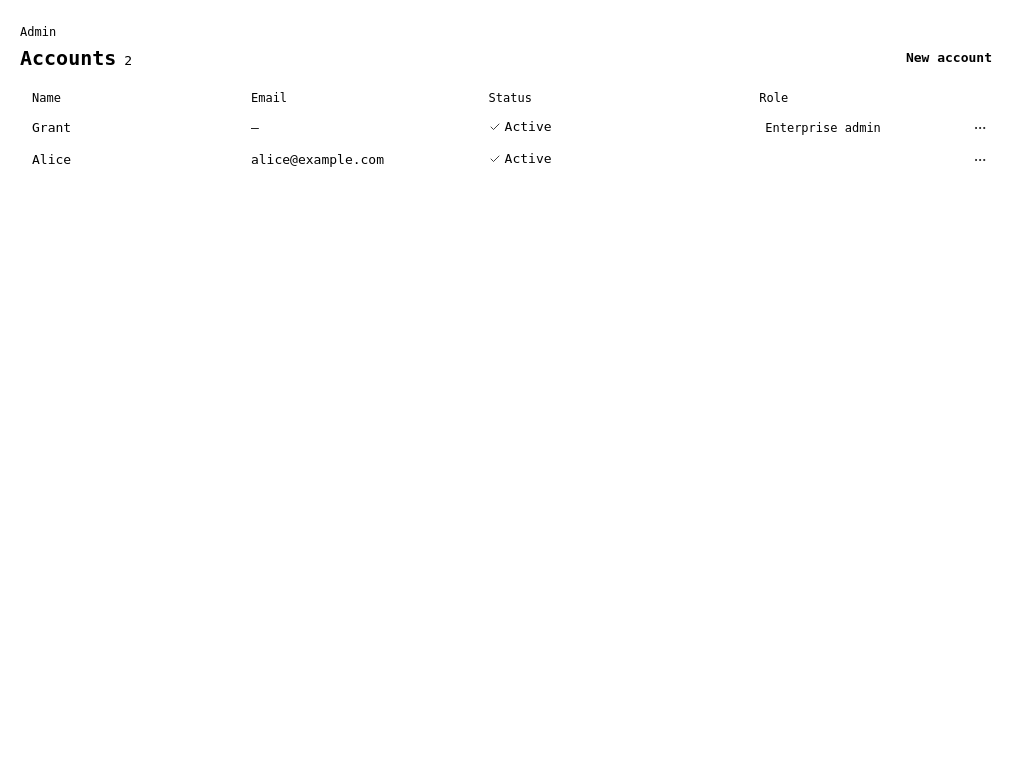
Test: /admin/accounts（ListPage） › 授予企业管理员要先确认，确认后才 PATCH（en）
Click the button named "Row actions" in the row of "alice@example.com". click: [980, 160]
box: [968,148,992,172]
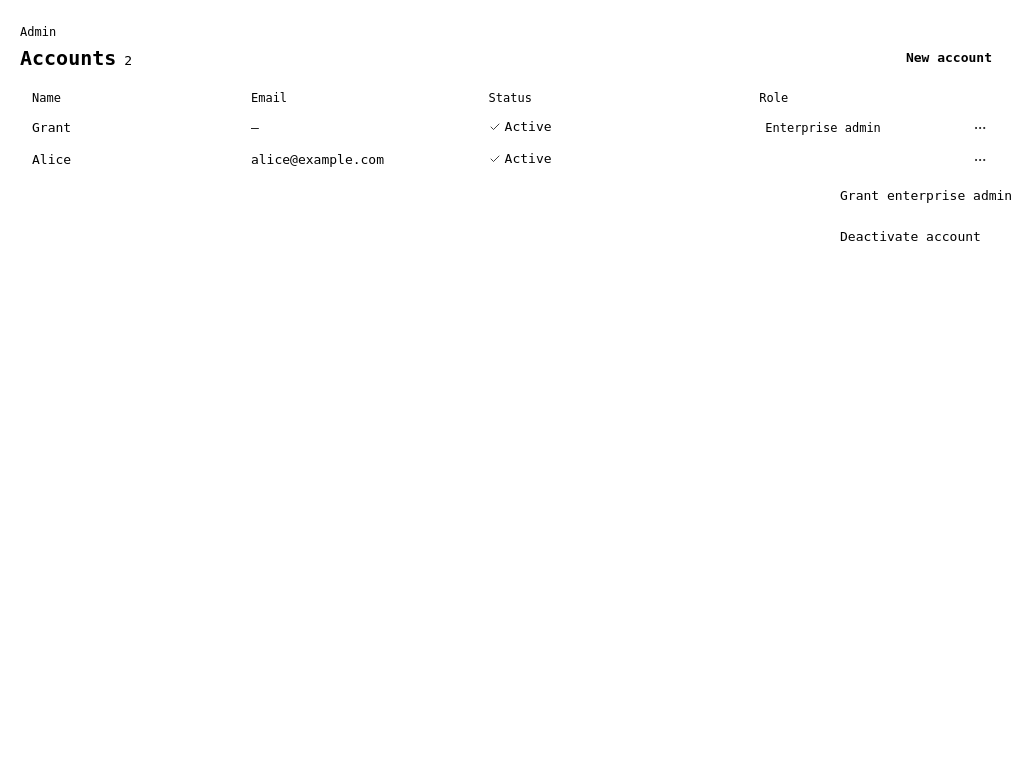
Click the menu item "Grant enterprise admin". click: [926, 196]
box: [840,188,1012,203]
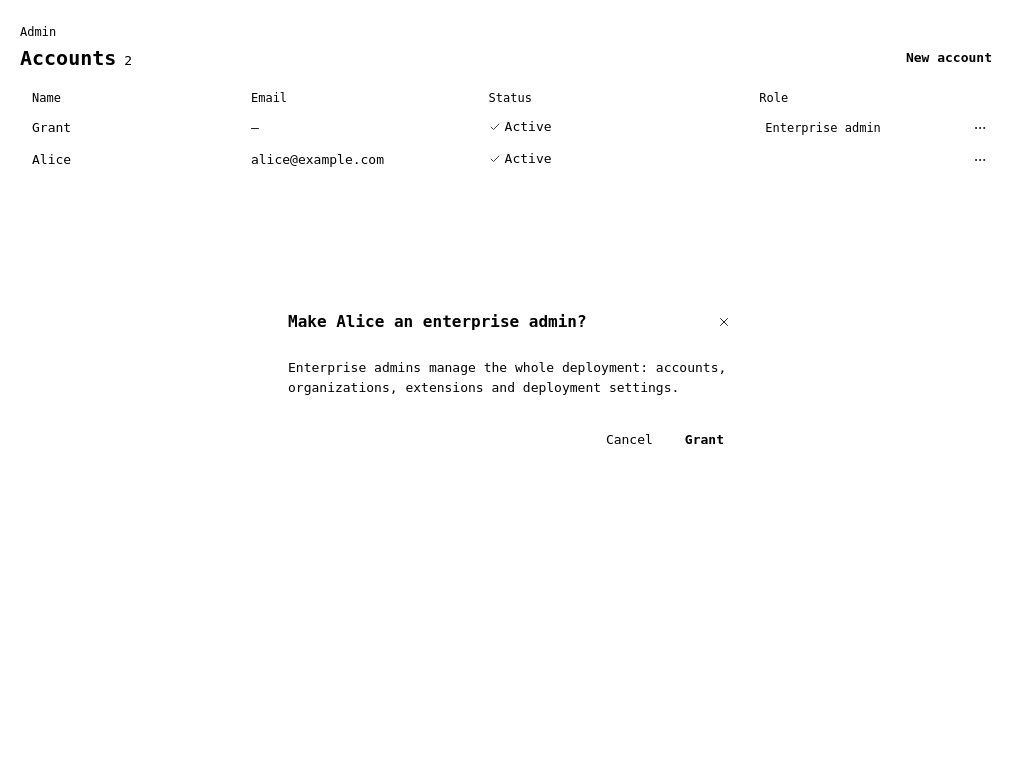
Click the button "Grant". click: [704, 440]
box: [673,426,736,454]
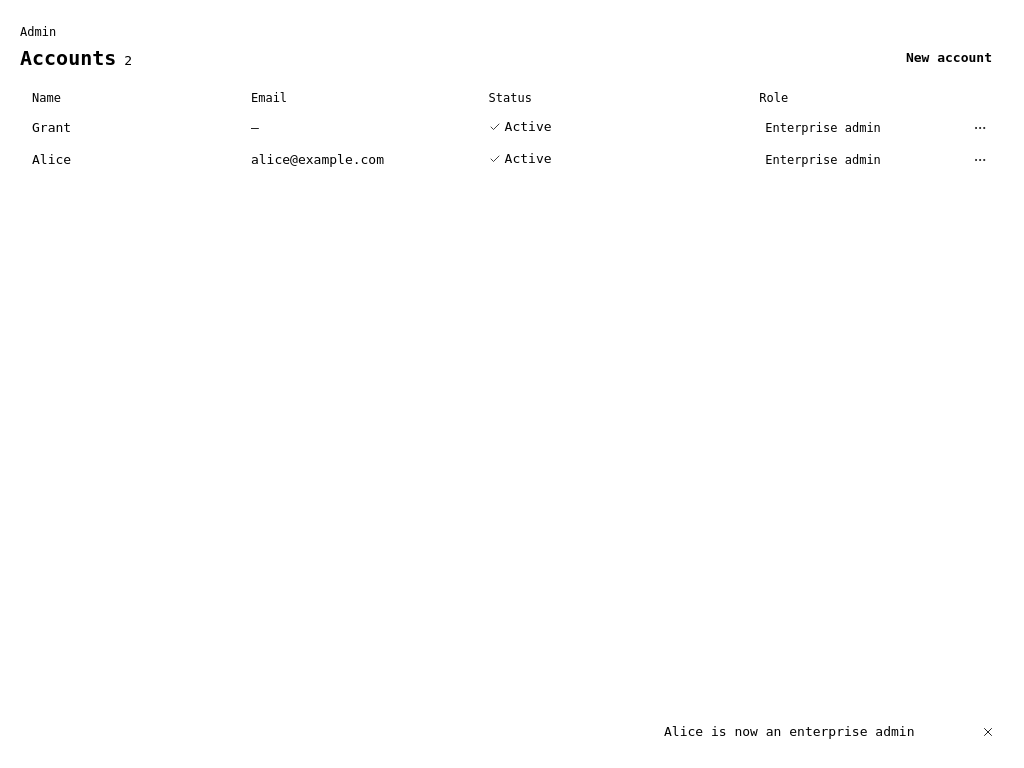
Check: the text "Enterprise admin" in the row of "alice@example.com" is shown, box [765,153,881,167]
Check: the dialog is gone
